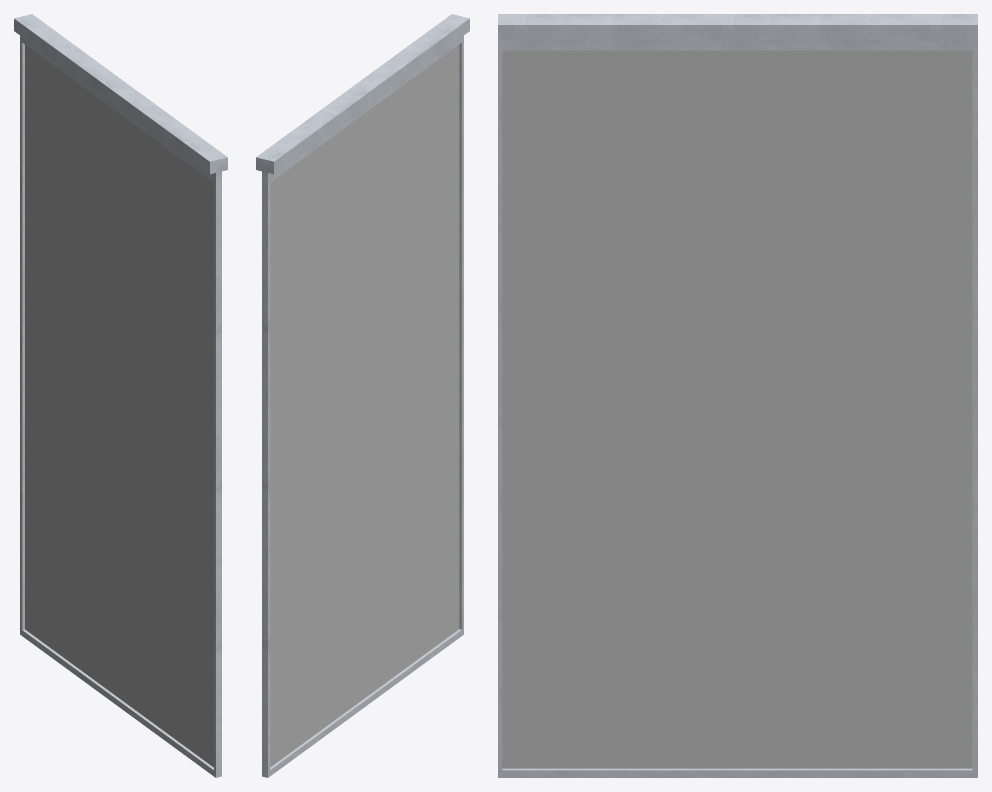
The model's file is SM_Panel.fbx.
The picture shows the model from 3 angles, left to right: view 1: azimuth 30°, elevation 25°; view 2: azimuth 150°, elevation 25°; view 3: azimuth 270°, elevation 25°; orthographic projection. The views are drawn at different scales.
Visible parts, largest first — view 1: SM_Panel_LOD0; view 2: SM_Panel_LOD0; view 3: SM_Panel_LOD0.
Part boxes in pixels (<box>): SM_Panel_LOD0: <box>14,14,227,777</box>; SM_Panel_LOD0: <box>256,14,469,777</box>; SM_Panel_LOD0: <box>498,14,977,777</box>.
Bounding box in the file's own units: 15.95 × 299 × 520.
Materials: 2 (1 with a texture image).
